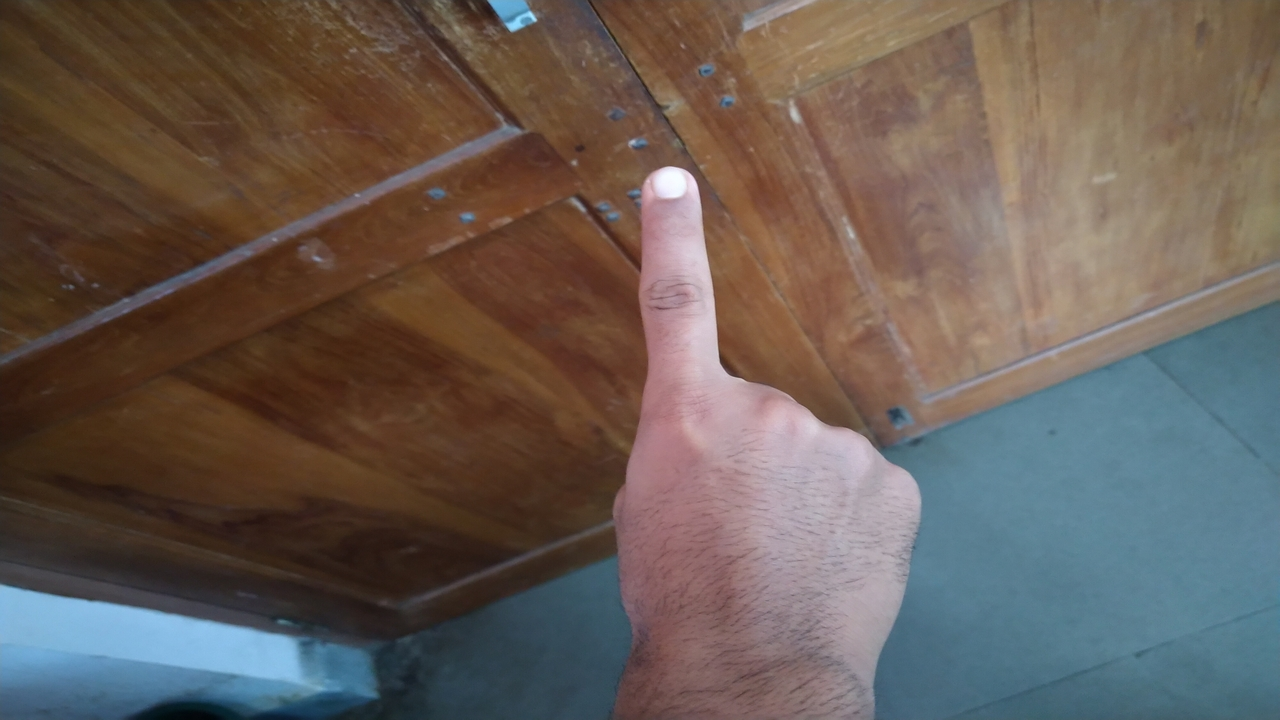fingertip: (638, 160, 702, 226)
